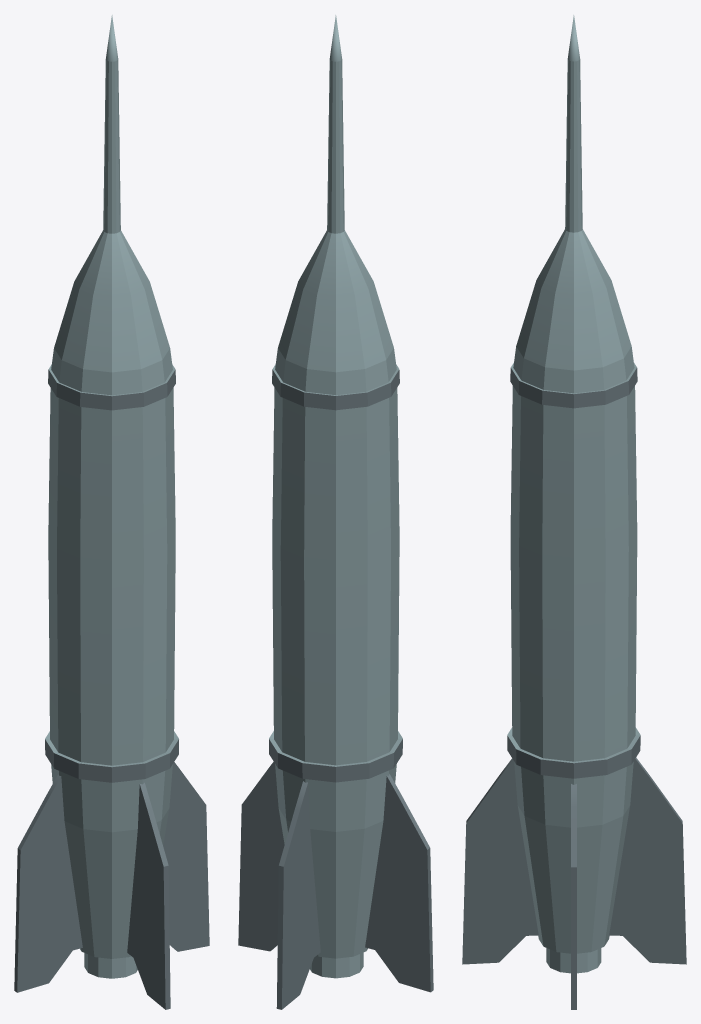
Rendered from Cohete.fbx.
3 renders of one model, left to right at view 1: azimuth 30°, elevation 25°; view 2: azimuth 150°, elevation 25°; view 3: azimuth 270°, elevation 25°, orthographic.
Visible parts, largest first — view 1: Cuerpo, pCube1, pCube2, pCube3; view 2: Cuerpo, pCube1, pCube4, pCube2; view 3: Cuerpo, pCube4, pCube3, pCube2.
Part boxes in pixels (bbox=[...]): Cuerpo: bbox=[45, 15, 178, 978]; pCube1: bbox=[14, 774, 82, 992]; pCube2: bbox=[163, 762, 209, 951]; pCube3: bbox=[127, 782, 170, 1009]; Cuerpo: bbox=[269, 15, 402, 978]; pCube1: bbox=[365, 774, 433, 992]; pCube4: bbox=[276, 781, 320, 1009]; pCube2: bbox=[238, 761, 284, 951]; Cuerpo: bbox=[507, 15, 640, 973]; pCube4: bbox=[609, 757, 686, 964]; pCube3: bbox=[462, 758, 538, 964]; pCube2: bbox=[571, 784, 576, 1009].
Size of the model in its own units: 4.57 by 21.66 by 4.64.
